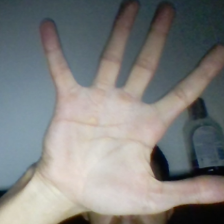left: (34, 2, 224, 212)
